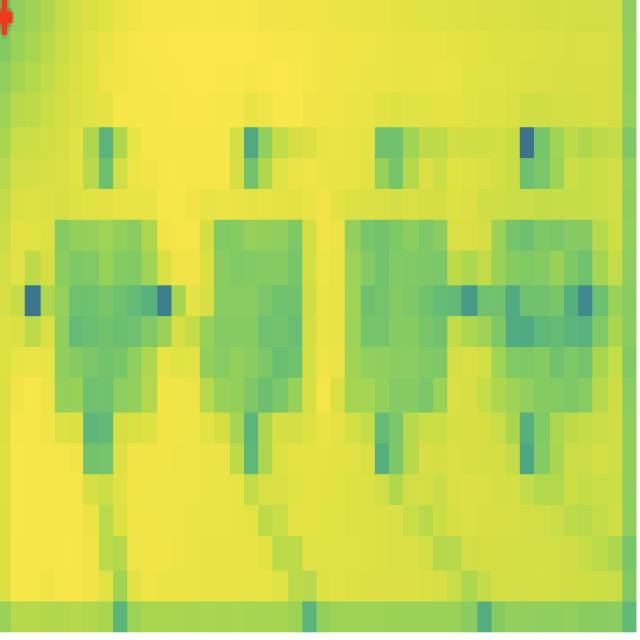Concrete: (47, 176, 160, 457)
Glass: (491, 204, 600, 420)
Metal: (189, 197, 321, 447)
Wood: (338, 193, 455, 433)
